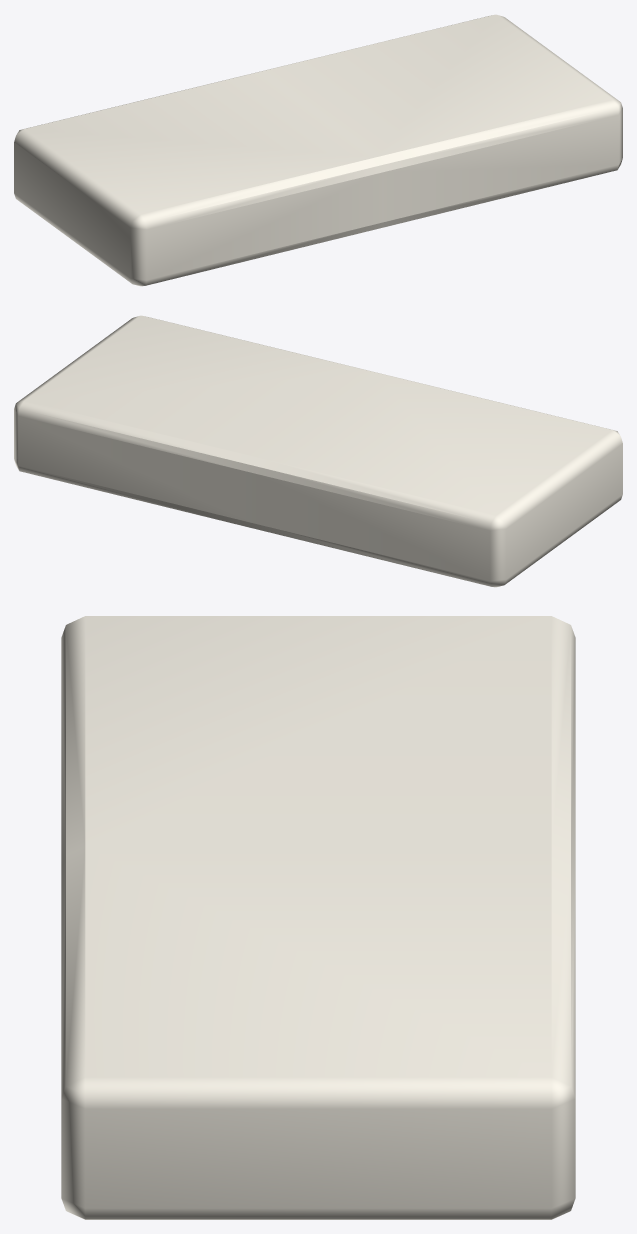
The picture shows the model from 3 angles, top to bottom: view 1: azimuth 30°, elevation 25°; view 2: azimuth 150°, elevation 25°; view 3: azimuth 270°, elevation 25°; orthographic projection. The views are drawn at different scales.
Visible parts, largest first — view 1: domino:domino:domino:domino:polySurface1; view 2: domino:domino:domino:domino:polySurface1; view 3: domino:domino:domino:domino:polySurface1.
Boxes of the visible parts, x1=… form: domino:domino:domino:domino:polySurface1: x1=14, y1=14, x2=622, y2=286; domino:domino:domino:domino:polySurface1: x1=14, y1=315, x2=622, y2=587; domino:domino:domino:domino:polySurface1: x1=61, y1=616, x2=575, y2=1219.
Size of the model in its own units: 3.28 by 0.4579 by 1.48.
Materials: 1 (1 with a texture image).
